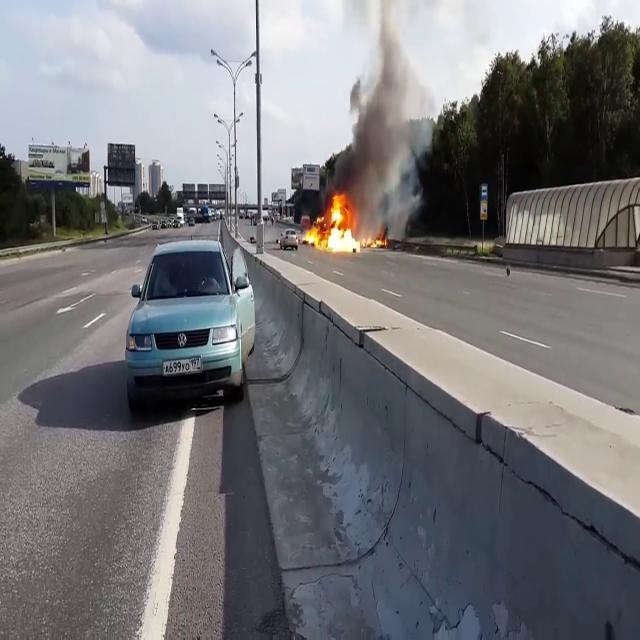Fire: (303, 193, 369, 256)
Smoke: (332, 0, 430, 212)
